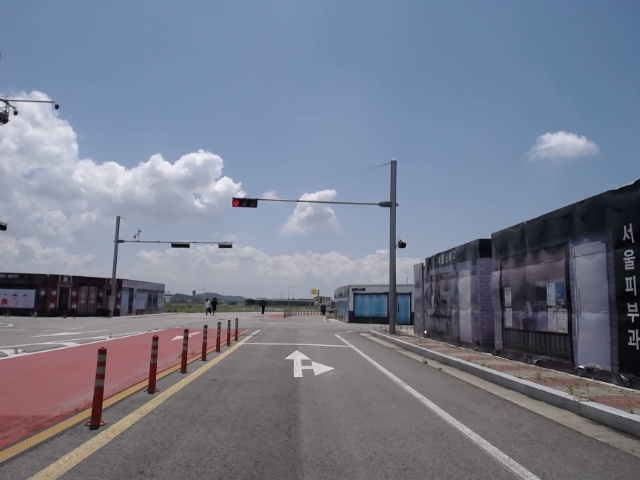red_3: (231, 198, 259, 211)
